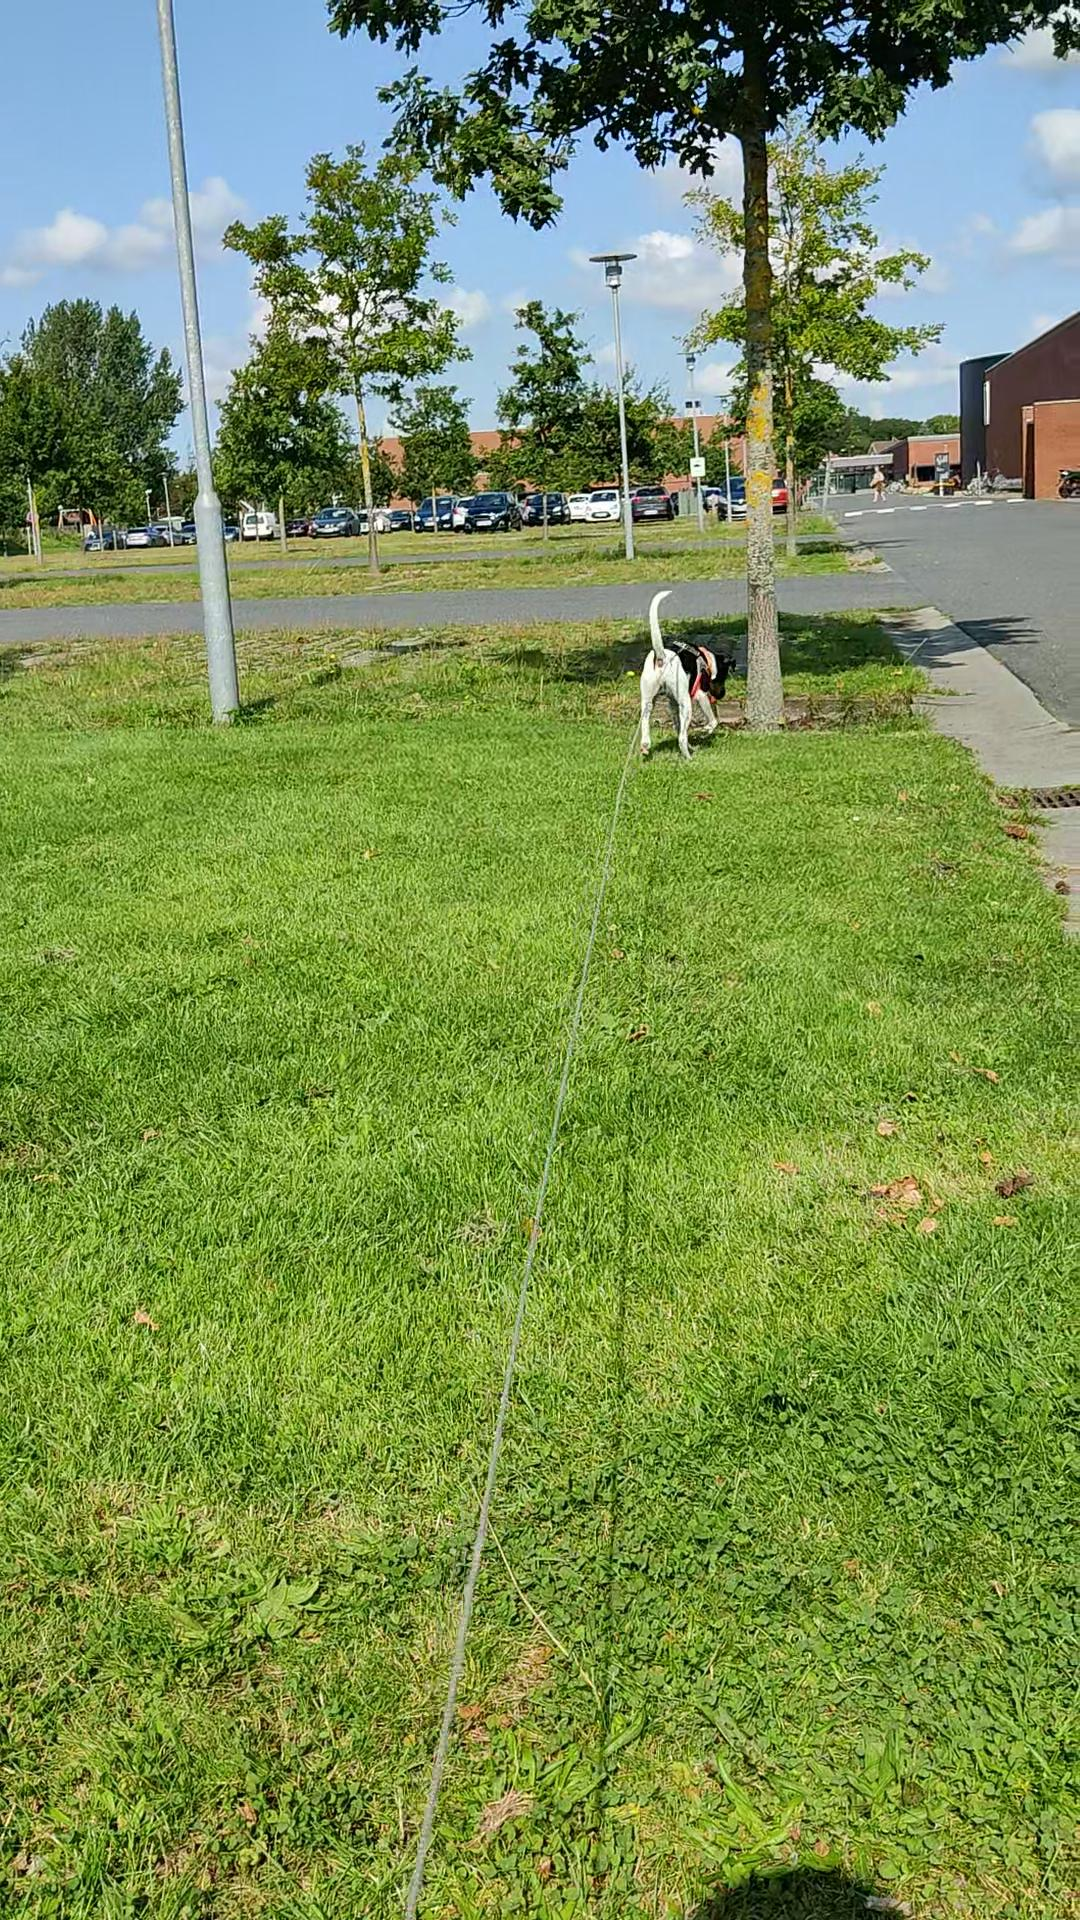Dog: (628, 579, 738, 769)
